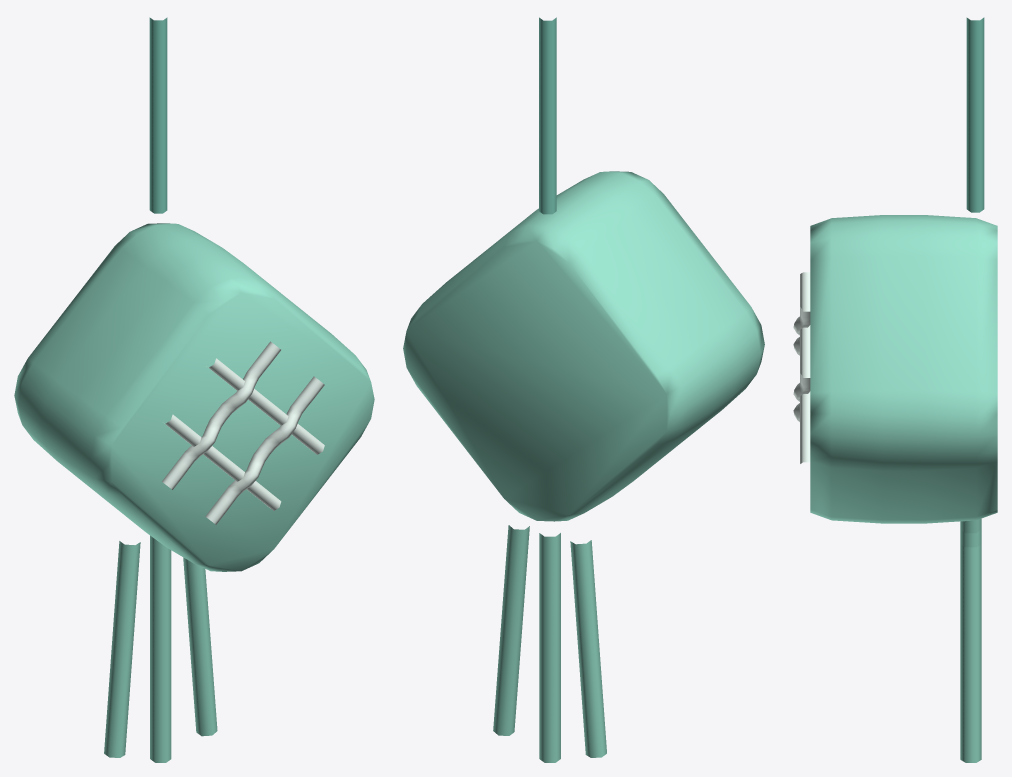
Rendered from decor_6_mint.glb.
3 renders of one model, left to right at view 1: azimuth 30°, elevation 25°; view 2: azimuth 150°, elevation 25°; view 3: azimuth 270°, elevation 25°, orthographic.
Parts seen in each view (by area): view 1: decor_6_mint; view 2: decor_6_mint; view 3: decor_6_mint.
Boxes of the visible parts, box(x1,y1,x2,y2) form: decor_6_mint: box(14, 17, 374, 762); decor_6_mint: box(403, 17, 764, 762); decor_6_mint: box(793, 17, 997, 762).
Bounding box in the file's own units: 3.71 × 9.2 × 2.31.
